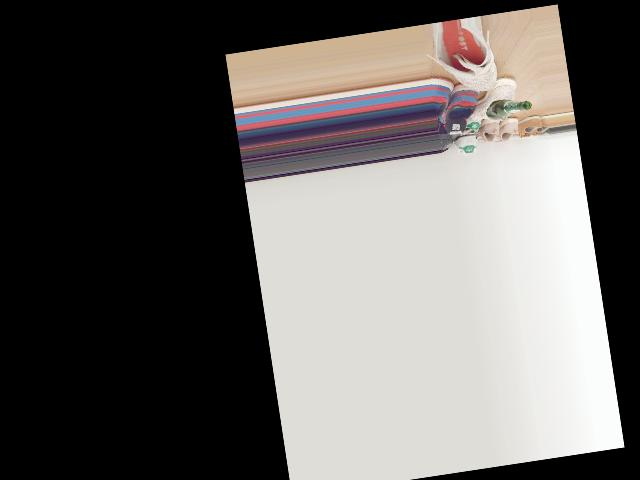beer: (485, 95, 532, 118)
